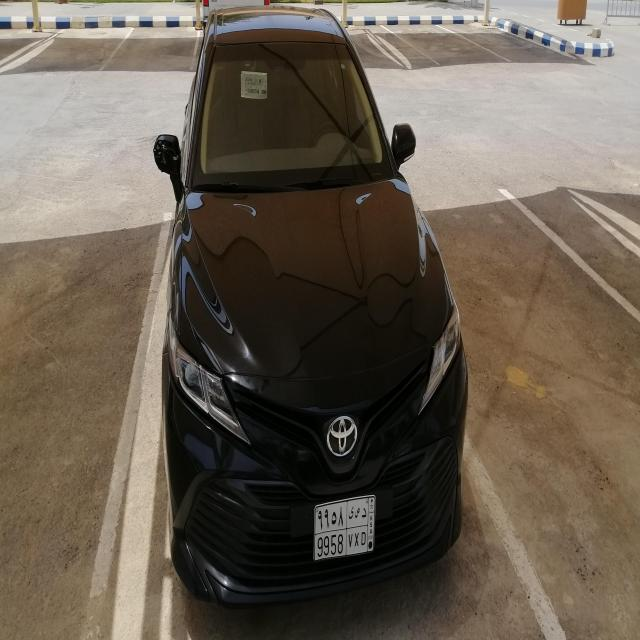license_plate: (313, 494, 376, 565)
